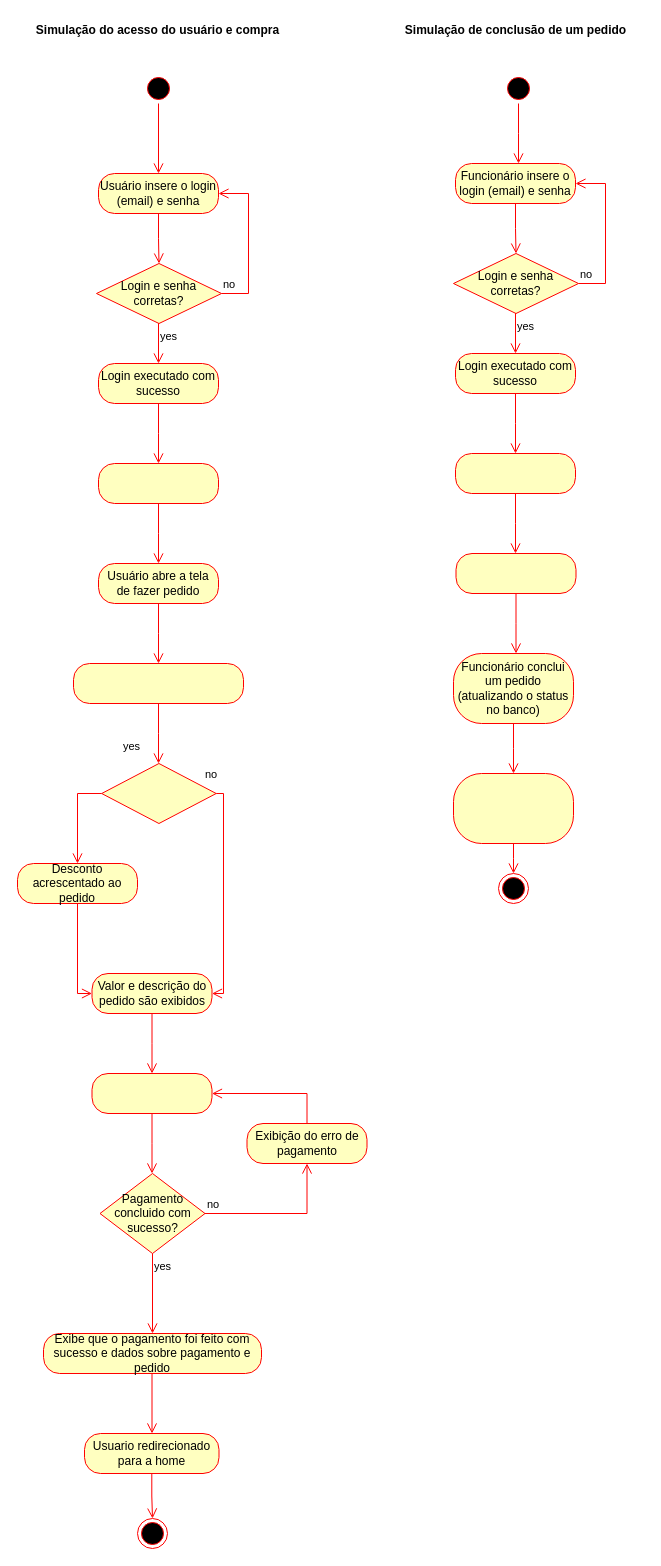
The diagram is 661 pixels wide and 1566 high, and some of its shapes have lost their labels. The shapes that lost their labels are listed below. From the top down, each one's centre as x and y in pixels, then its label:
At pixel 158 483: "Tela inicial é exibida".
At pixel 515 473: "Tela com os pedidos é exibida".
At pixel 515 573: "Funcionário abre a tela de detalhes de um pedido".
At pixel 158 683: "Usuário monta o pedido, com diferentes produto e variações".
At pixel 158 793: "Cupom adicionado?".
At pixel 513 808: "Usuário redirecionado para a tela com os pedidos".
At pixel 151 1093: "Usuário seleciona forma de pagamento".
